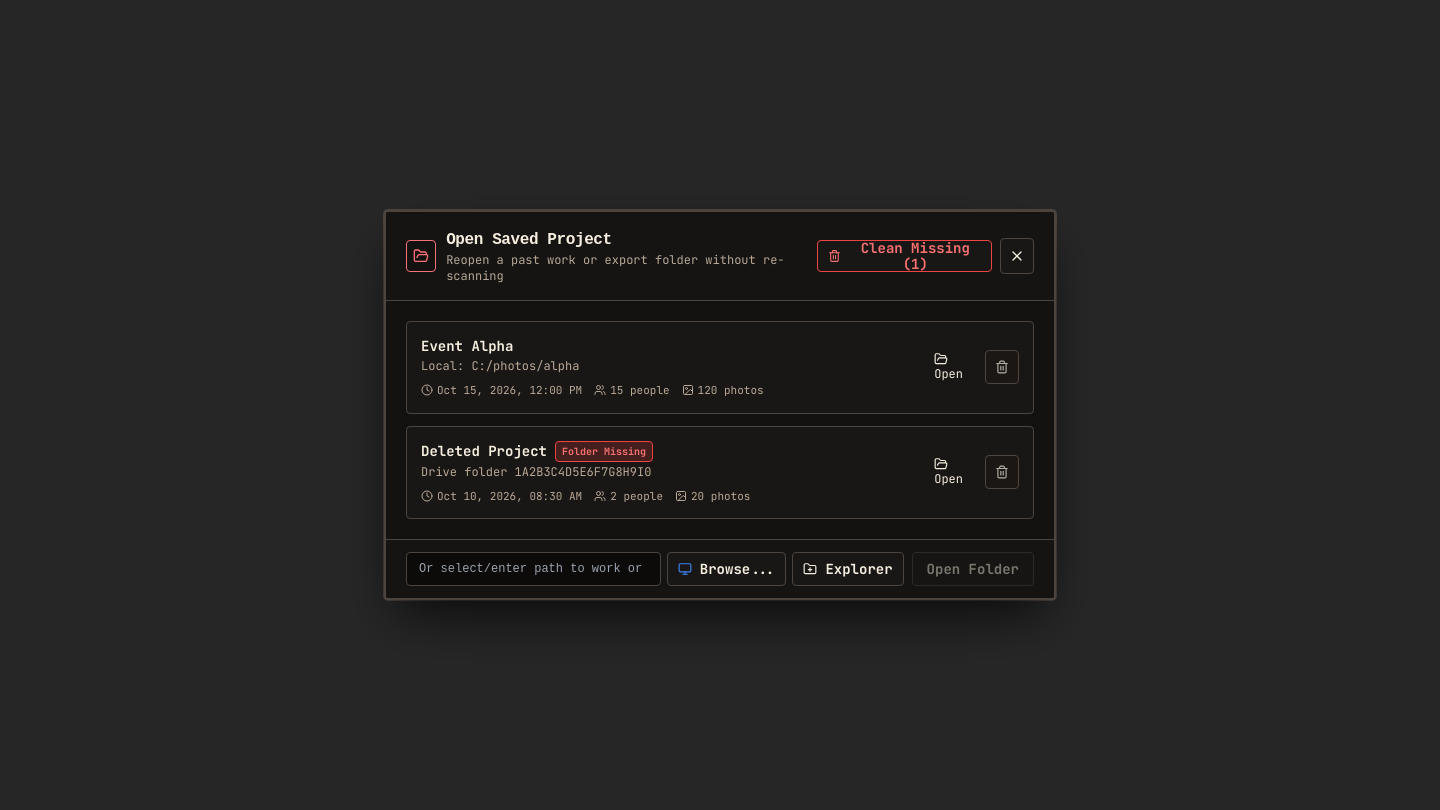
it: Open Saved Project Feature › Unexported Work Guard › prompts unexported guard modal when opening project with unexported work
expect the text "Event Alpha" is shown: met, box [421,336,513,356]
Note: Click open on project
Click the button with test id "open-project-btn-proj_01": (949, 367) [920,350,977,384]
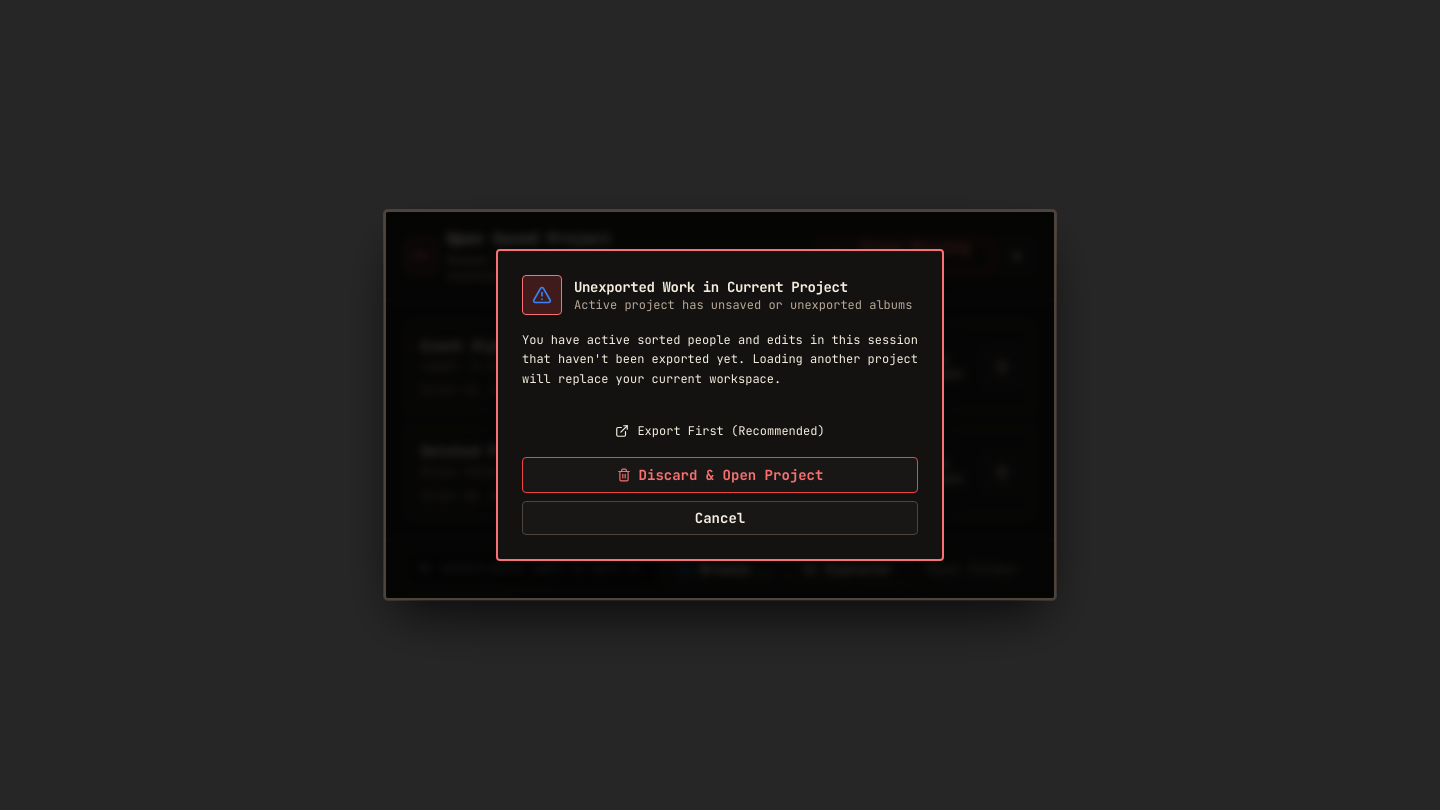
expect the element with test id "unexported-guard-modal" is shown: met, box [386,212,1054,598]
expect the heading "Unexported Work in Current Project" is shown: met, box [574,278,848,296]
Note: Cancel button dismisses modal without action
Click the button with test id "cancel-guard-btn": (720, 518) [522,501,918,535]
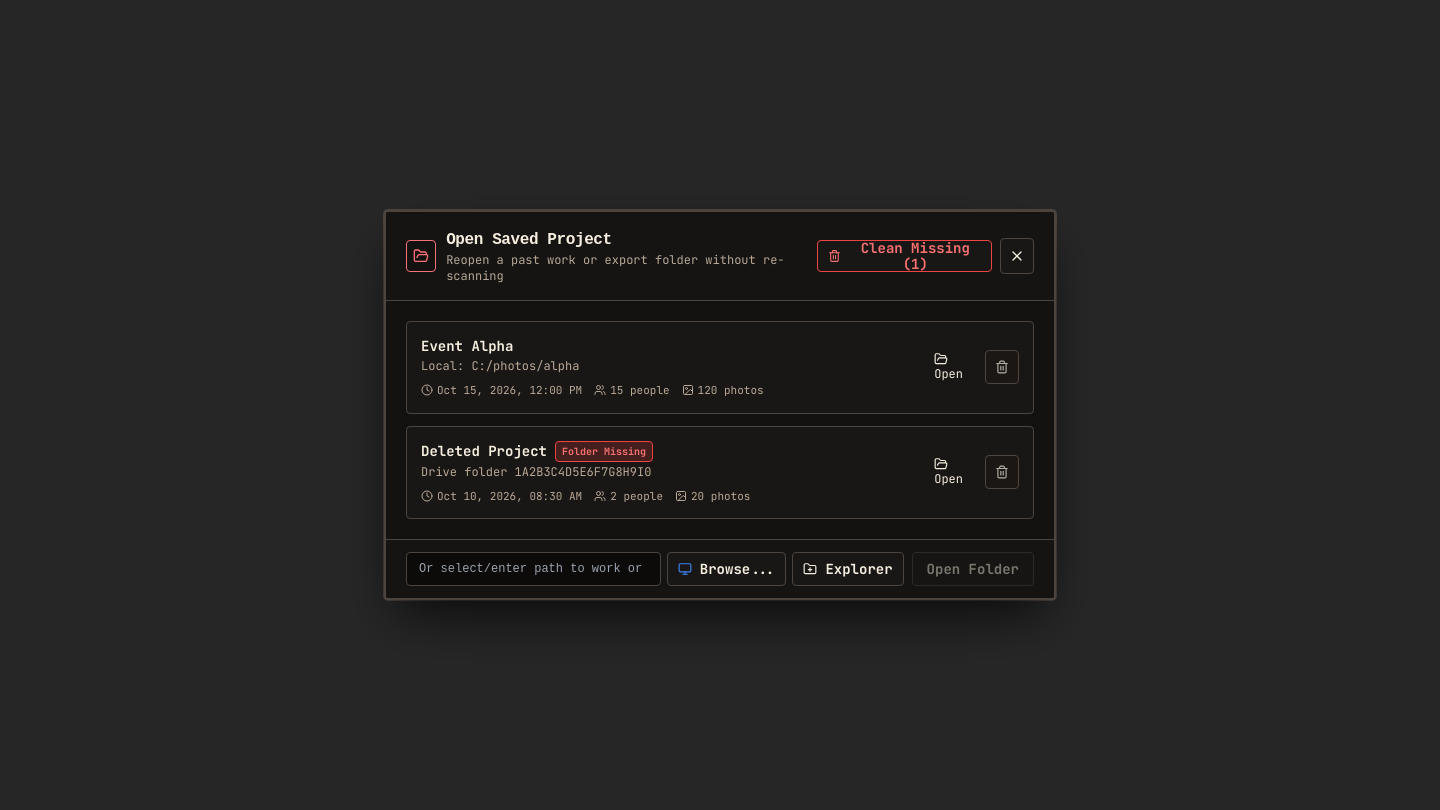
expect the element with test id "unexported-guard-modal" is gone: met
